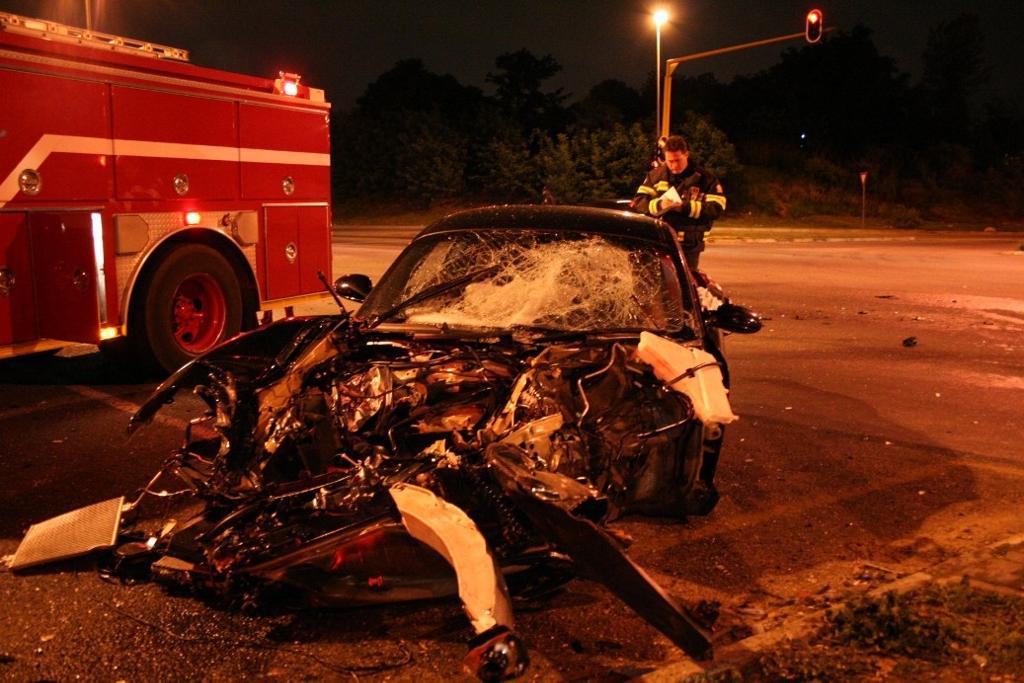face: (666, 155, 685, 175)
